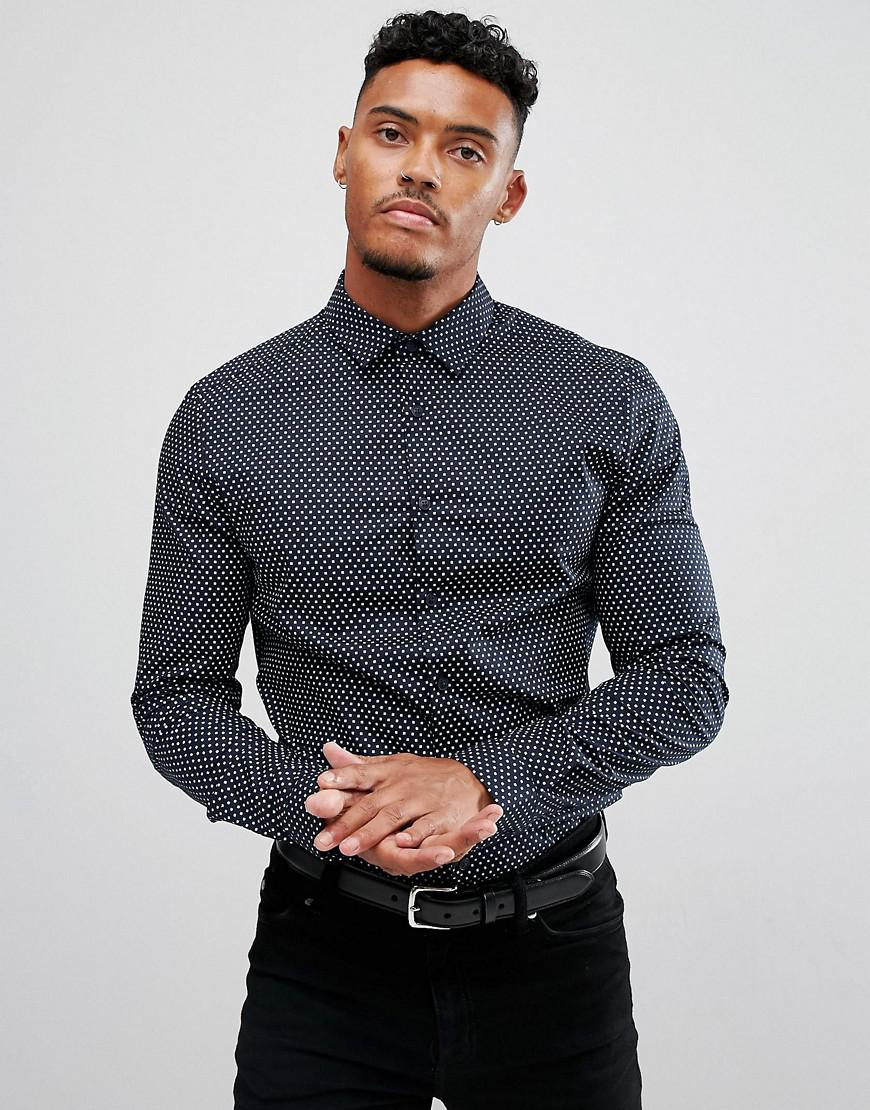teeshirt: (113, 295, 730, 890)
